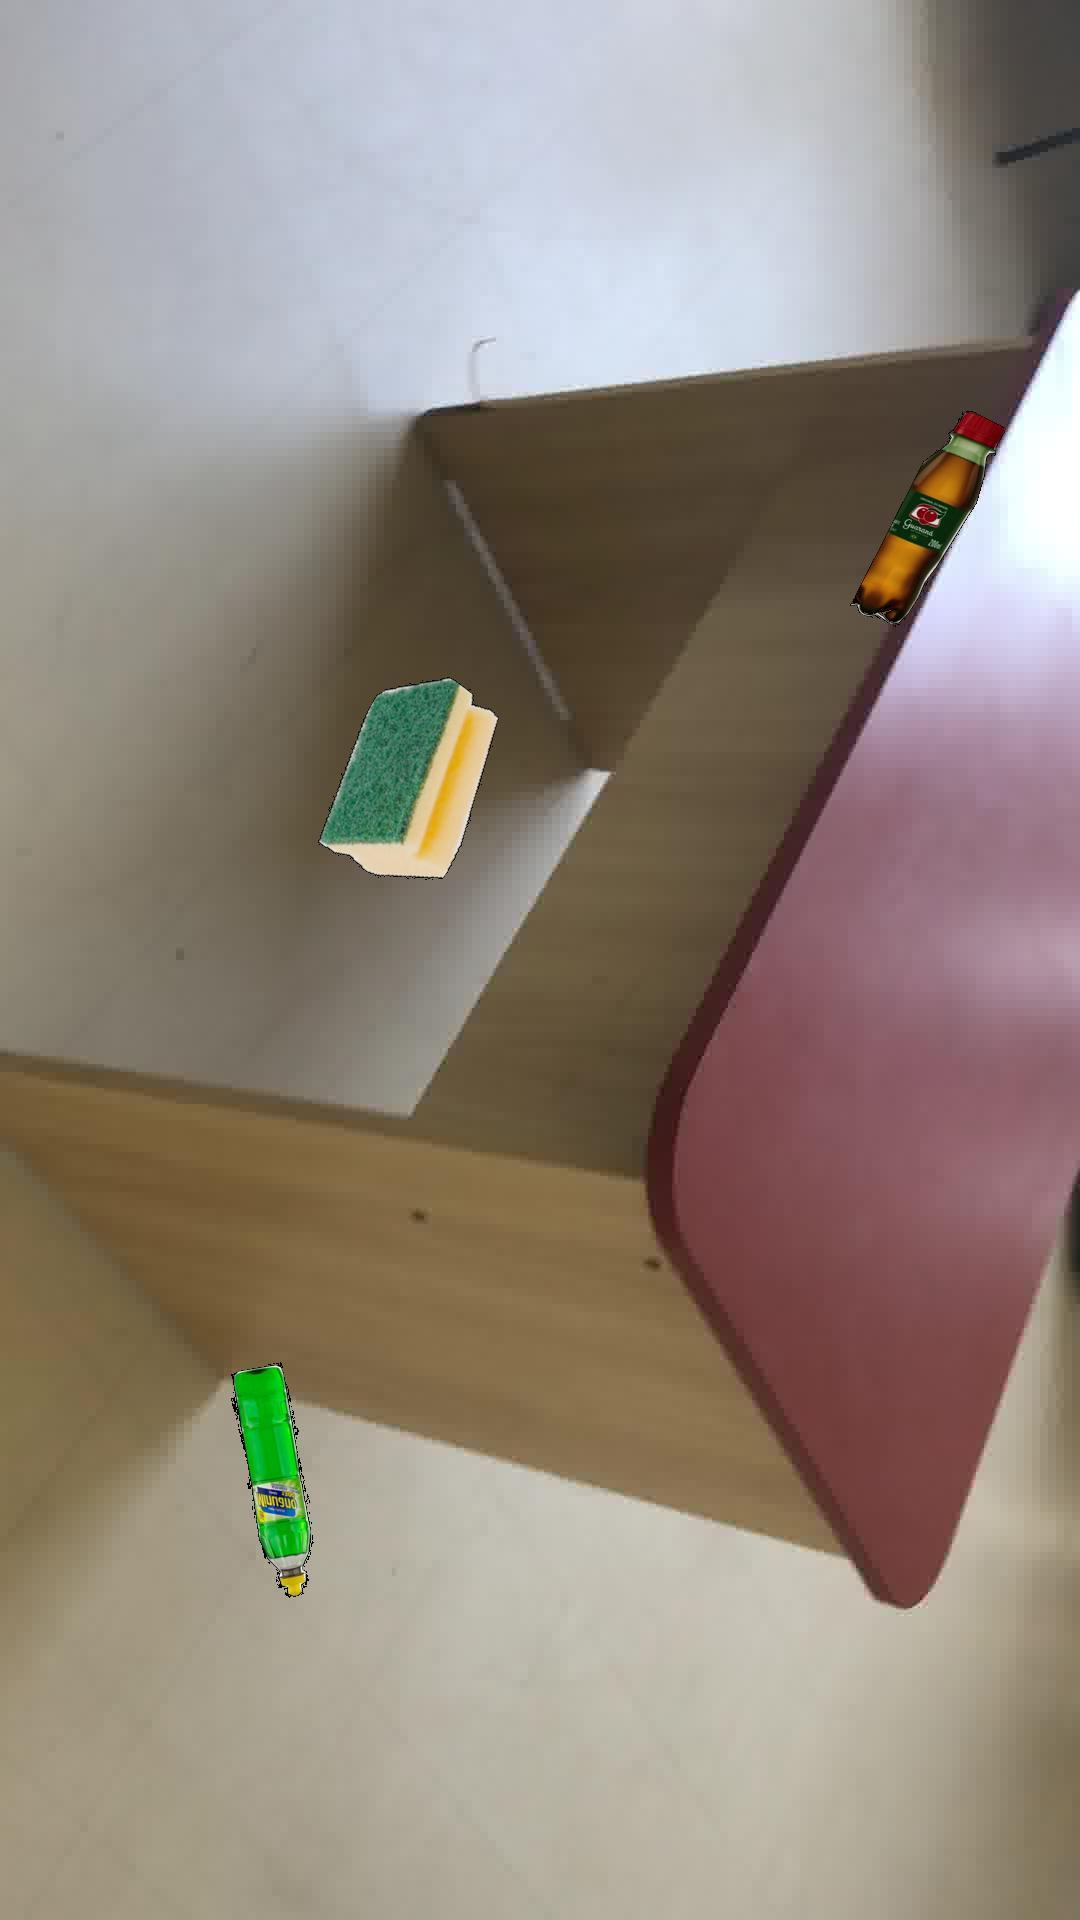cleaner: (229, 1361, 310, 1597)
guarana: (848, 410, 1005, 622)
sponge: (316, 675, 497, 877)
